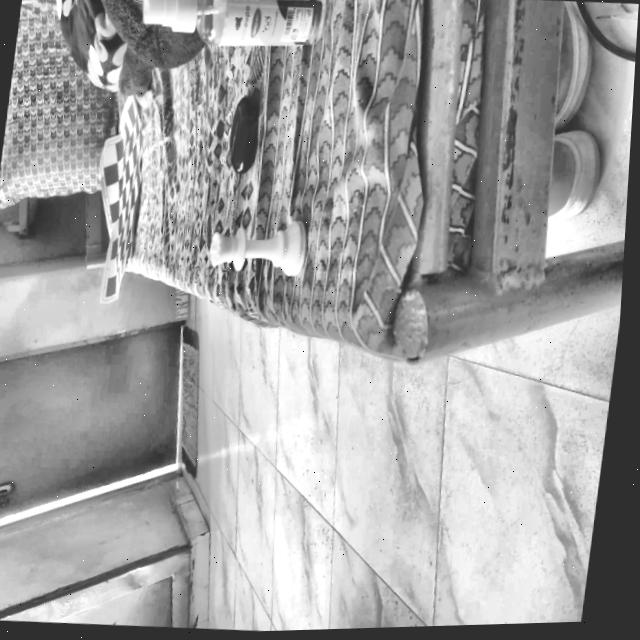WhiteQueen: (205, 211, 311, 278)
